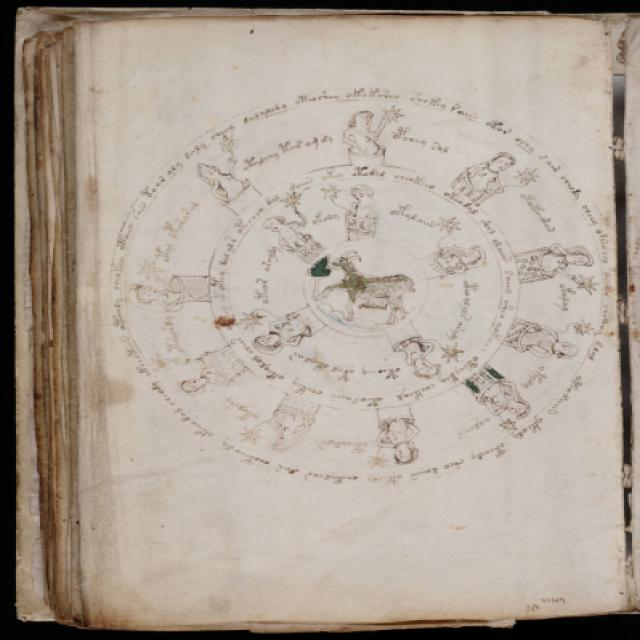ornament_circle: (94, 78, 627, 485)
